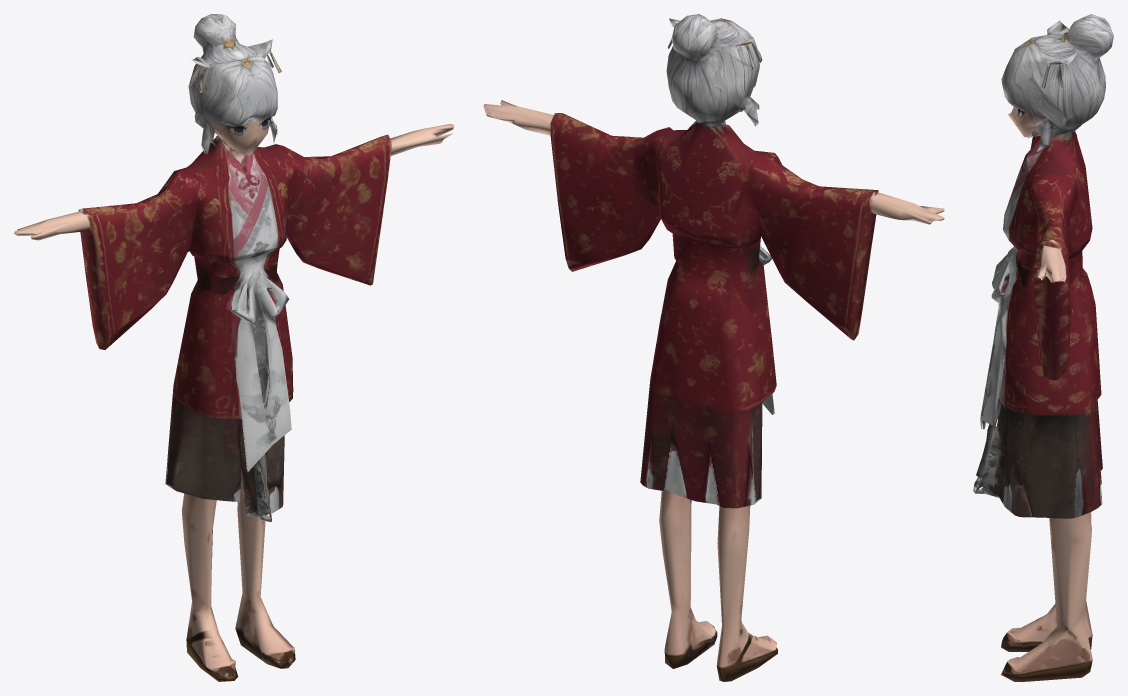
The model's file is akari.glb.
The picture shows the model from 3 angles, left to right: view 1: azimuth 30°, elevation 25°; view 2: azimuth 150°, elevation 25°; view 3: azimuth 270°, elevation 25°; orthographic projection. The views are drawn at different scales.
Bounding box in the file's own units: 1.39 × 1.9 × 0.376.
1 material, 1 textured.
